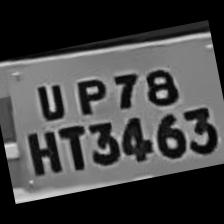3: (178, 100, 222, 157), (81, 116, 122, 170)
4: (113, 108, 154, 165)
6: (148, 106, 189, 162)
7: (102, 64, 144, 113)
8: (135, 60, 182, 110)
H: (21, 125, 64, 180)
P: (65, 67, 113, 119)
T: (53, 120, 91, 176)
U: (26, 72, 72, 123)
